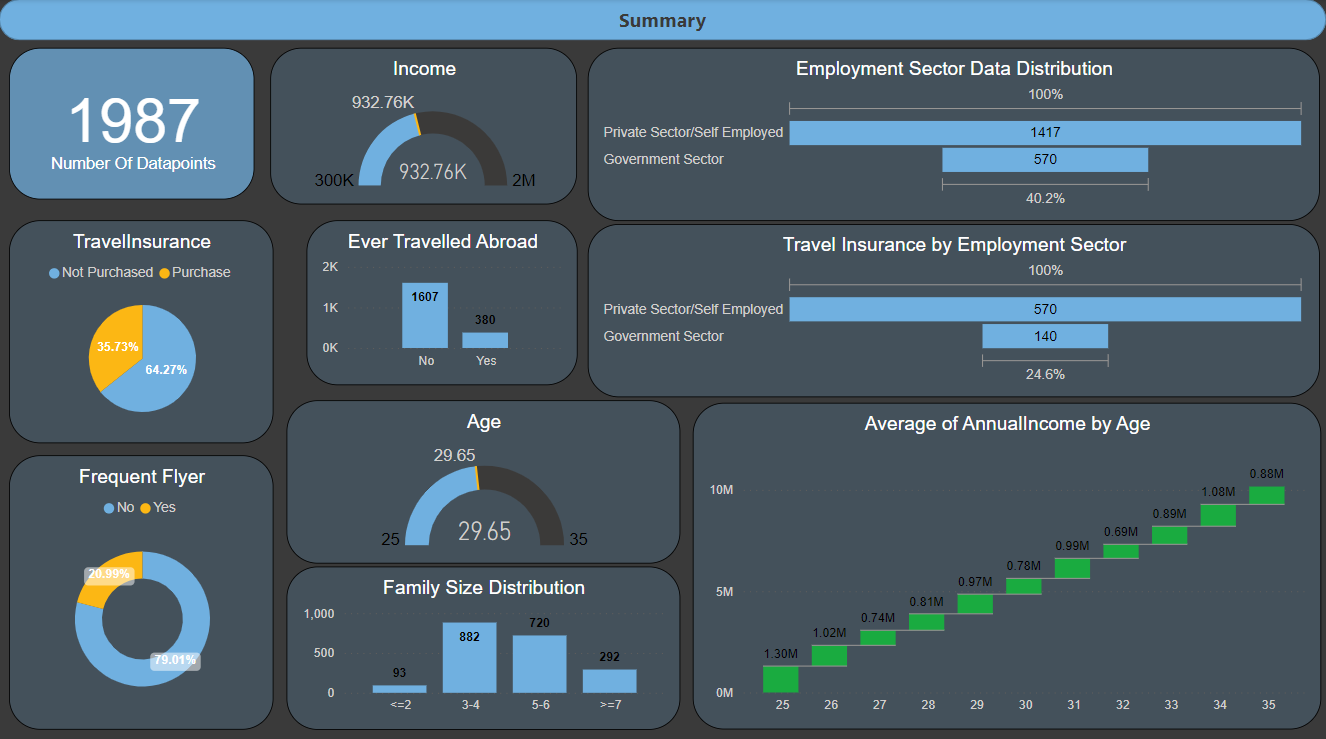

This screenshot's page, from the dashboard's own definition file:
{"tool":"powerbi","page":{"name":"Sumary","canvas":[1280,720],"ordinal":0},"visuals":[{"type":"card","fields":{"Values":["CountNonNull(8 TravelInsurancePrediction.TravelInsurance)"]},"box":[9.6,46.6,237.2,146.7],"z":0},{"type":"shape","box":[0,0,1280.6,39.8],"z":1000},{"type":"gauge","title":"Age ","fields":{"MinValue":["Min(8 TravelInsurancePrediction.Age)"],"MaxValue":["Max(8 TravelInsurancePrediction.Age)"],"TargetValue":["Avg(8 TravelInsurancePrediction.Age)1"],"Y":["Avg(8 TravelInsurancePrediction.Age)1"]},"box":[277,386.6,379.8,157.7],"z":2000},{"type":"columnChart","title":"Ever Travelled Abroad","fields":{"Category":["8 TravelInsurancePrediction.EverTravelledAbroad"],"Y":["CountNonNull(8 TravelInsurancePrediction.EverTravelledAbroad)"]},"box":[296.1,213.9,261.9,159],"z":3000},{"type":"columnChart","title":"Family Size Distribution","fields":{"Category":["8 TravelInsurancePrediction.Column"],"Y":["CountNonNull(8 TravelInsurancePrediction.Age)"]},"box":[277,547,379.8,157.7],"z":4000},{"type":"funnel","title":"Employment Sector Data Distribution","fields":{"Y":["CountNonNull(8 TravelInsurancePrediction.TravelInsurance)"],"Category":["8 TravelInsurancePrediction.Employment Type"]},"box":[567.6,46.6,706.1,167.3],"z":5000},{"type":"funnel","title":"Travel Insurance by Employment Sector","fields":{"Y":["CountNonNull(8 TravelInsurancePrediction.TravelInsurance)"],"Category":["8 TravelInsurancePrediction.Employment Type"]},"box":[567.6,216.6,706.1,167.3],"z":6000},{"type":"waterfallChart","fields":{"Y":["Avg(8 TravelInsurancePrediction.AnnualIncome)"],"Category":["8 TravelInsurancePrediction.Age"]},"box":[669.1,389.4,606,315.3],"z":7000},{"type":"gauge","title":"Income","fields":{"Y":["Avg(8 TravelInsurancePrediction.AnnualIncome)"],"MinValue":["Min(8 TravelInsurancePrediction.AnnualIncome)1"],"MaxValue":["Max(8 TravelInsurancePrediction.AnnualIncome)2"],"TargetValue":["Avg(8 TravelInsurancePrediction.AnnualIncome)"]},"box":[261.9,46.6,296.1,150.8],"z":8000},{"type":"pieChart","title":"TravelInsurance","fields":{"Category":["8 TravelInsurancePrediction.TravelInsurance_str"],"Y":["CountNonNull(8 TravelInsurancePrediction.TravelInsurance_str)"]},"box":[9.6,213.9,255,215.3],"z":9000},{"type":"donutChart","title":"Frequent Flyer","fields":{"Y":["CountNonNull(8 TravelInsurancePrediction.FrequentFlyer)"],"Series":["8 TravelInsurancePrediction.FrequentFlyer"]},"box":[9.6,440.1,255,264.6],"z":10000}]}

Visuals, with their boxes in screenshot pixels (x1, y1, x2, y2), scaled from the page's 1280x720 canvas onto the 1326x739 screenshot:
card - CountNonNull(8 TravelInsurancePrediction.TravelInsurance): l=10, t=48, r=256, b=198
shape: l=0, t=0, r=1325, b=41
"Age " gauge: l=287, t=397, r=680, b=559
"Ever Travelled Abroad" columnChart: l=307, t=220, r=578, b=383
"Family Size Distribution" columnChart: l=287, t=561, r=680, b=723
"Employment Sector Data Distribution" funnel: l=588, t=48, r=1319, b=220
"Travel Insurance by Employment Sector" funnel: l=588, t=222, r=1319, b=394
waterfallChart - Avg(8 TravelInsurancePrediction.AnnualIncome) x 8 TravelInsurancePrediction.Age: l=693, t=400, r=1321, b=723
"Income" gauge: l=271, t=48, r=578, b=203
"TravelInsurance" pieChart: l=10, t=220, r=274, b=441
"Frequent Flyer" donutChart: l=10, t=452, r=274, b=723
